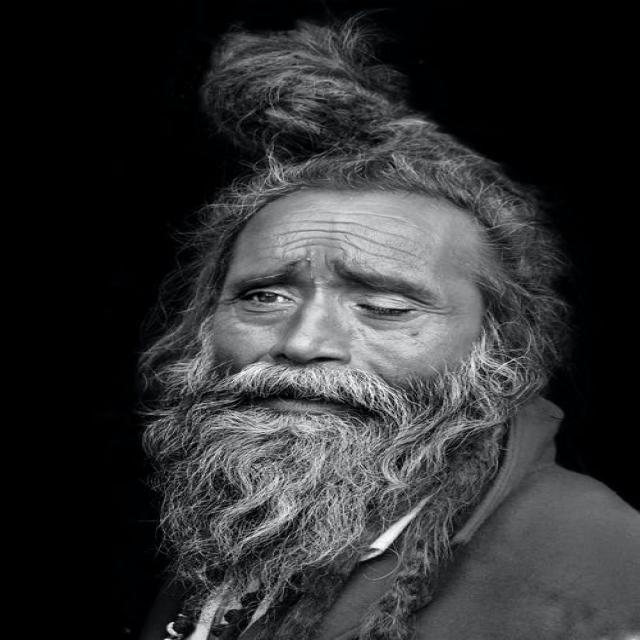Wrinkles: (276, 229, 422, 258), (285, 236, 402, 261), (317, 221, 419, 242), (324, 211, 411, 223), (286, 243, 346, 258), (265, 220, 309, 227), (282, 208, 322, 214), (252, 246, 281, 251), (282, 247, 286, 262)
